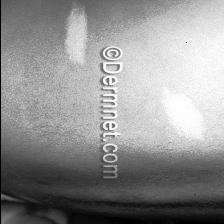Unclassified: (162, 84, 206, 144), (61, 0, 90, 68)
